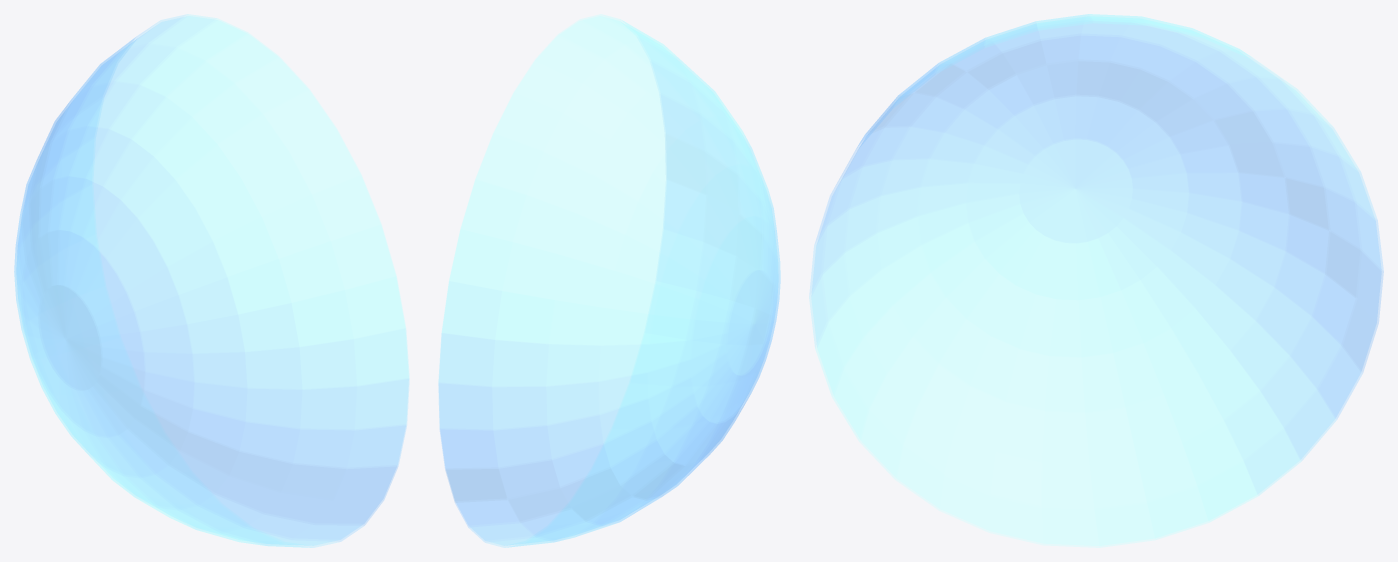
Rendered from Shield 1.fbx.
3 renders of one model, left to right at view 1: azimuth 30°, elevation 25°; view 2: azimuth 150°, elevation 25°; view 3: azimuth 270°, elevation 25°, orthographic. The views are drawn at different scales.
Visible parts, largest first — view 1: Sphere; view 2: Sphere; view 3: Sphere.
Boxes of the visible parts, x1,y1,x2,y2 form: Sphere: (14,14,409,547); Sphere: (438,14,780,547); Sphere: (809,14,1383,547).
Size of the model in its own units: 3.43 by 7.55 by 7.52.
